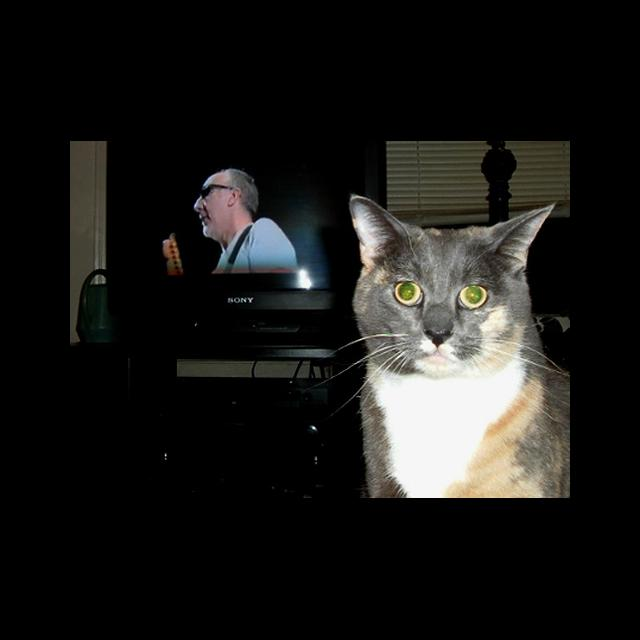animals: (353, 198, 553, 346)
